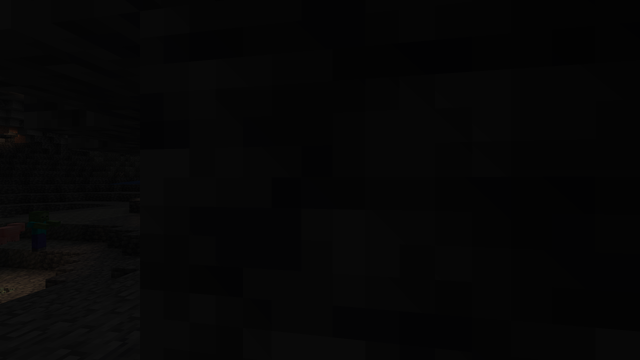cochons: (0, 225, 21, 244)
zombies: (27, 211, 50, 251)
